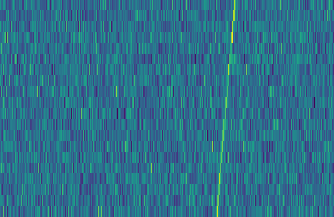signal: (212, 0, 240, 217)
